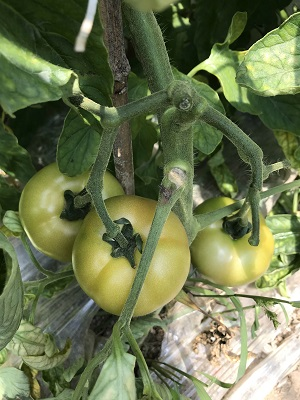immature-tomato: (78, 198, 190, 322), (17, 159, 117, 257), (190, 198, 274, 291)
